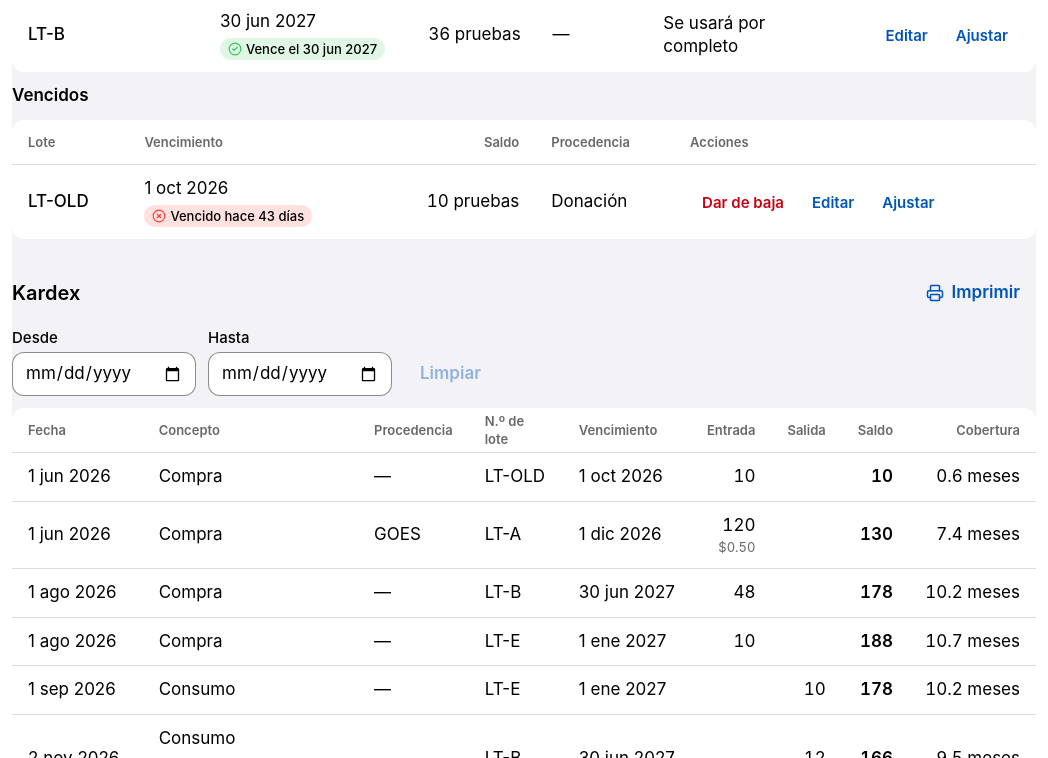
ProductDetailPage › ledger › explains an empty range and an inverted range
(page scrolled)
Type "2026-11-12" into the date field labelled "Desde" at (104, 374), box [12, 352, 196, 396]
(page scrolled)
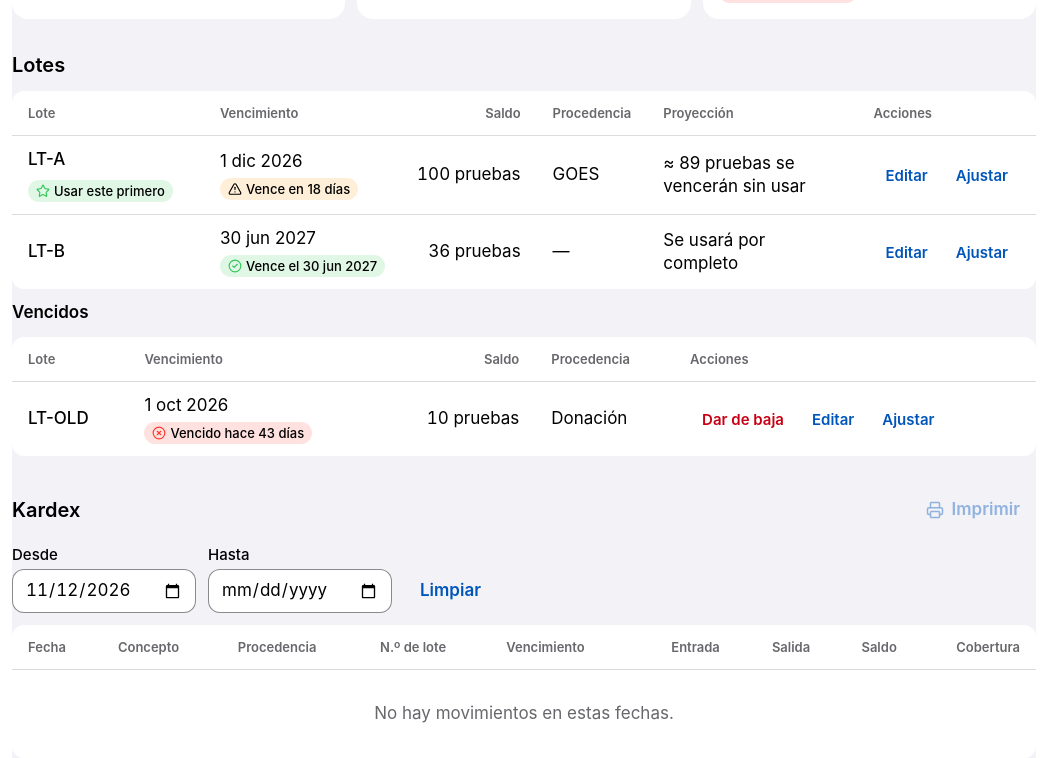
Type "2026-11-01" into the date field labelled "Hasta" at (300, 591), box [208, 569, 392, 613]
(page scrolled)
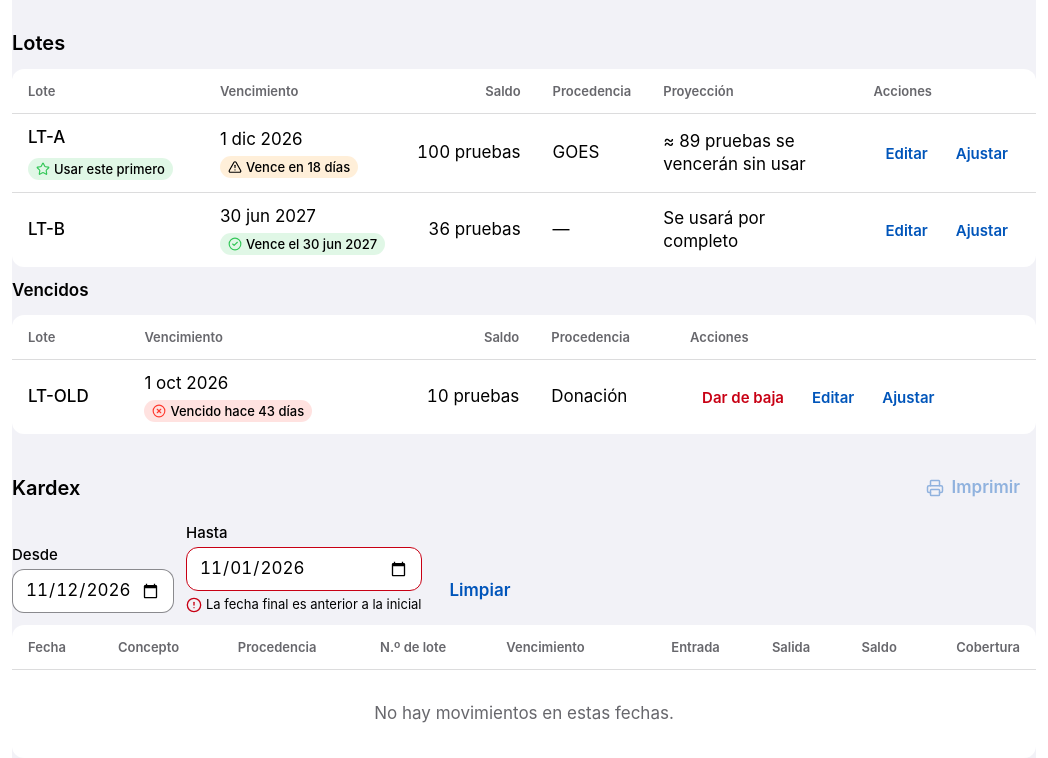
Expected: the text "No hay movimientos en estas fechas." is shown, [12, 670, 1036, 757]
Expected: the text "La fecha final es anterior a la inicial" is shown, [206, 595, 422, 613]
